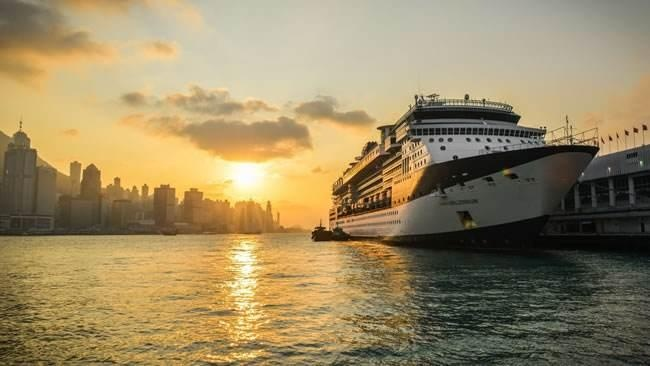youlun: (316, 83, 602, 245)
